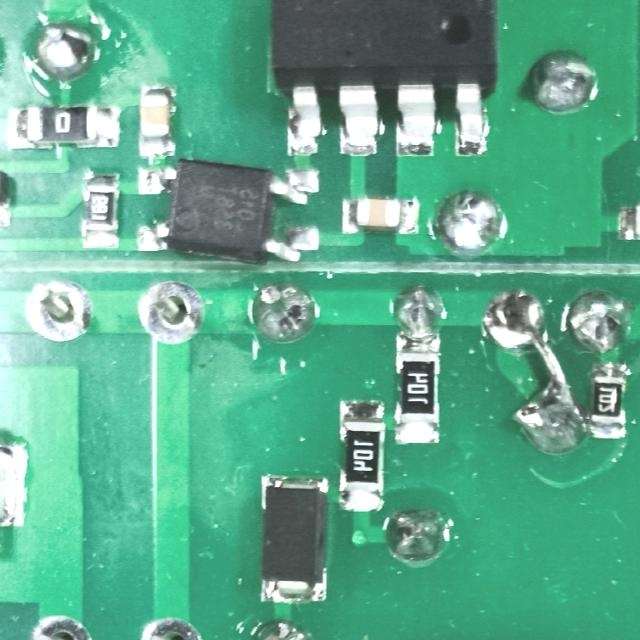chip-capacitor: (341, 195, 423, 236), (138, 81, 177, 158)
chip-resistor: (337, 397, 385, 514), (394, 331, 441, 444), (6, 104, 122, 149), (81, 166, 119, 250), (590, 361, 629, 439)
diode: (259, 471, 330, 603)
ic: (260, 0, 504, 160), (132, 161, 323, 263)
